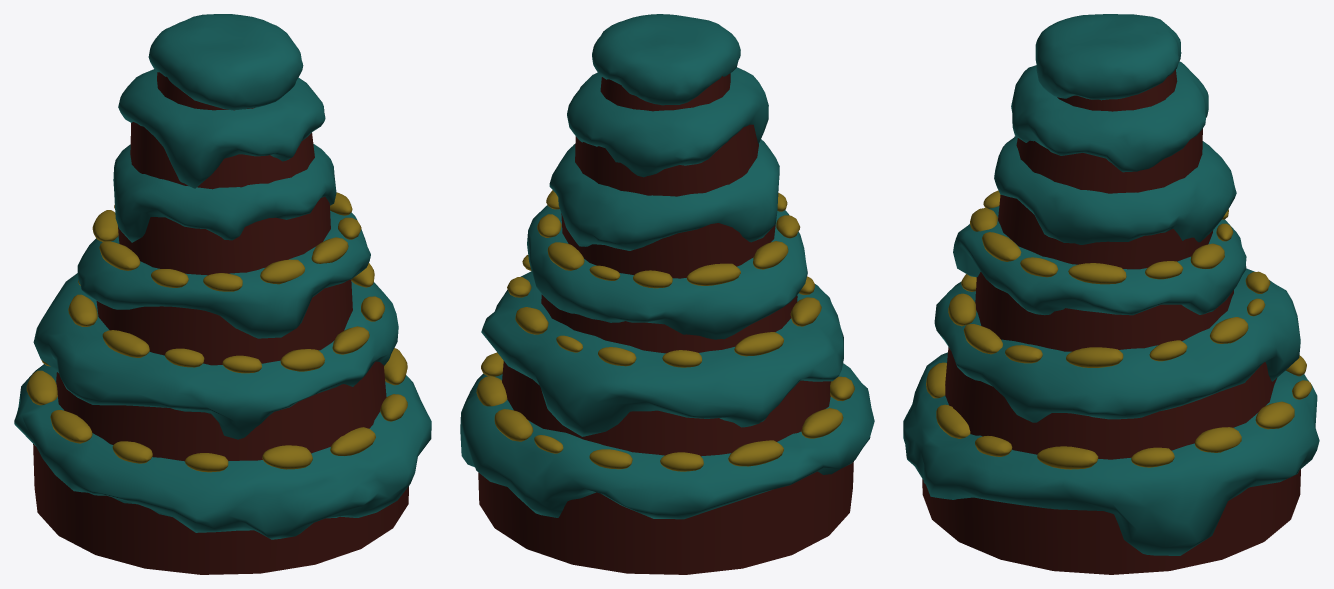
The model's file is Cake.obj.
The picture shows the model from 3 angles, left to right: view 1: azimuth 30°, elevation 25°; view 2: azimuth 150°, elevation 25°; view 3: azimuth 270°, elevation 25°; orthographic projection.
Parts seen in each view (by area): view 1: polySurface9, polySurface8, pCylinder1, pCylinder2, polySurface7, polySurface5, polySurface4, polySurface6, pCylinder3, pCylinder4, pCylinder5, pSphere37 (+20 smaller); view 2: polySurface8, pCylinder1, polySurface9, polySurface7, polySurface6, polySurface5, polySurface4, pCylinder2, pCylinder5, pCylinder4, pCylinder3, pCylinder6 (+15 smaller); view 3: polySurface9, polySurface8, pCylinder1, polySurface6, pCylinder2, polySurface7, polySurface5, polySurface4, pCylinder3, pCylinder4, pCylinder5, pCylinder6 (+19 smaller).
Part boxes in pixels (x1=…): polySurface9: x1=14, y1=364, x2=431, y2=539; polySurface8: x1=33, y1=273, x2=398, y2=439; pCylinder1: x1=33, y1=444, x2=408, y2=574; pCylinder2: x1=56, y1=361, x2=386, y2=461; polySurface7: x1=77, y1=210, x2=370, y2=338; polySurface5: x1=118, y1=69, x2=325, y2=188; polySurface4: x1=148, y1=14, x2=303, y2=110; polySurface6: x1=113, y1=144, x2=336, y2=242; pCylinder3: x1=96, y1=279, x2=352, y2=365; pCylinder4: x1=118, y1=196, x2=330, y2=275; pCylinder5: x1=130, y1=122, x2=314, y2=189; pSphere37: x1=262, y1=445, x2=312, y2=469; polySurface8: x1=481, y1=271, x2=843, y2=436; pCylinder1: x1=478, y1=461, x2=853, y2=574; polySurface9: x1=460, y1=363, x2=874, y2=519; polySurface7: x1=527, y1=205, x2=807, y2=339; polySurface6: x1=549, y1=139, x2=779, y2=250; polySurface5: x1=567, y1=67, x2=768, y2=177; polySurface4: x1=592, y1=14, x2=740, y2=105; pCylinder2: x1=502, y1=361, x2=830, y2=456; pCylinder5: x1=575, y1=124, x2=758, y2=196; pCylinder4: x1=561, y1=213, x2=775, y2=278; pCylinder3: x1=541, y1=294, x2=797, y2=353; pCylinder6: x1=600, y1=73, x2=730, y2=111; polySurface9: x1=903, y1=352, x2=1319, y2=555; polySurface8: x1=934, y1=268, x2=1300, y2=422; pCylinder1: x1=922, y1=469, x2=1300, y2=574; polySurface6: x1=994, y1=136, x2=1236, y2=244; pCylinder2: x1=945, y1=347, x2=1276, y2=459; polySurface7: x1=953, y1=206, x2=1246, y2=315; polySurface5: x1=1011, y1=61, x2=1208, y2=172; polySurface4: x1=1035, y1=14, x2=1181, y2=100; pCylinder3: x1=975, y1=272, x2=1233, y2=351; pCylinder4: x1=998, y1=195, x2=1212, y2=269; pCylinder5: x1=1016, y1=128, x2=1202, y2=193; pCylinder6: x1=1057, y1=69, x2=1177, y2=111.
Size of the model in its own units: 5.82 by 7.29 by 5.92.
